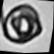correct: (0, 0, 49, 49)
